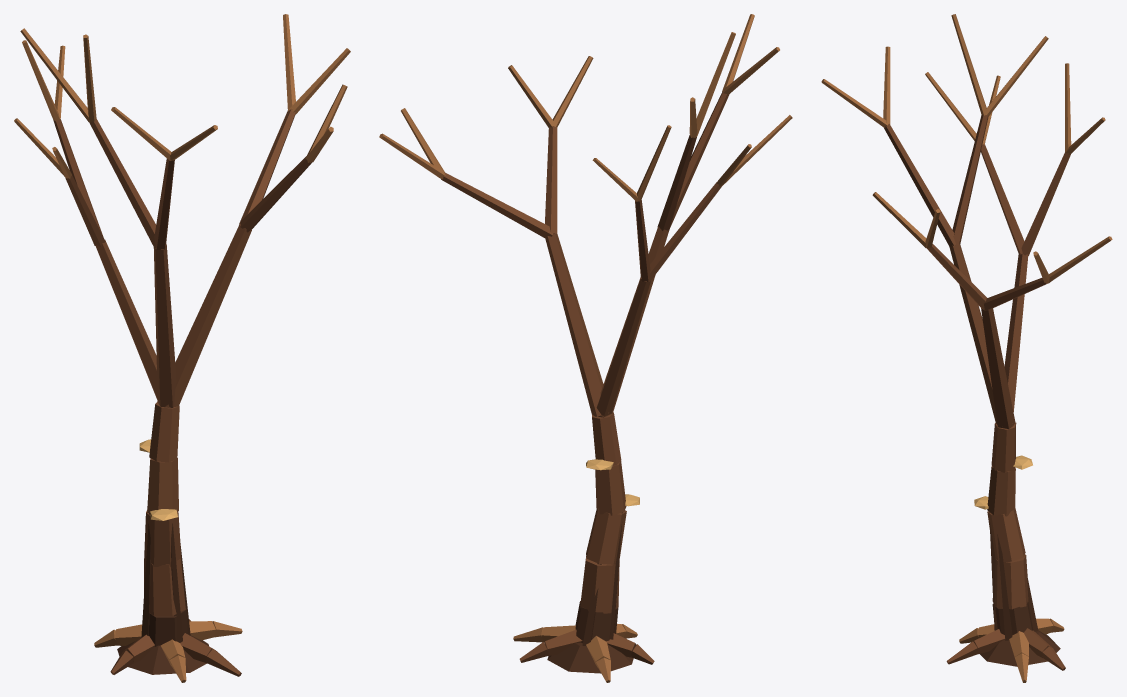
Rendered from tree_bare_c.glb.
3 views of the same model, side by side, from view 1: azimuth 30°, elevation 25°; view 2: azimuth 150°, elevation 25°; view 3: azimuth 270°, elevation 25° (orthographic). The views are drawn at different scales.
Parts seen in each view (by area): view 1: TreeBareC; view 2: TreeBareC; view 3: TreeBareC.
Boxes of the visible parts, <box> form: TreeBareC: <box>14,14,350,682</box>; TreeBareC: <box>379,14,792,682</box>; TreeBareC: <box>821,14,1112,682</box>.
Size of the model in its own units: 8.72 by 15.67 by 7.03.
